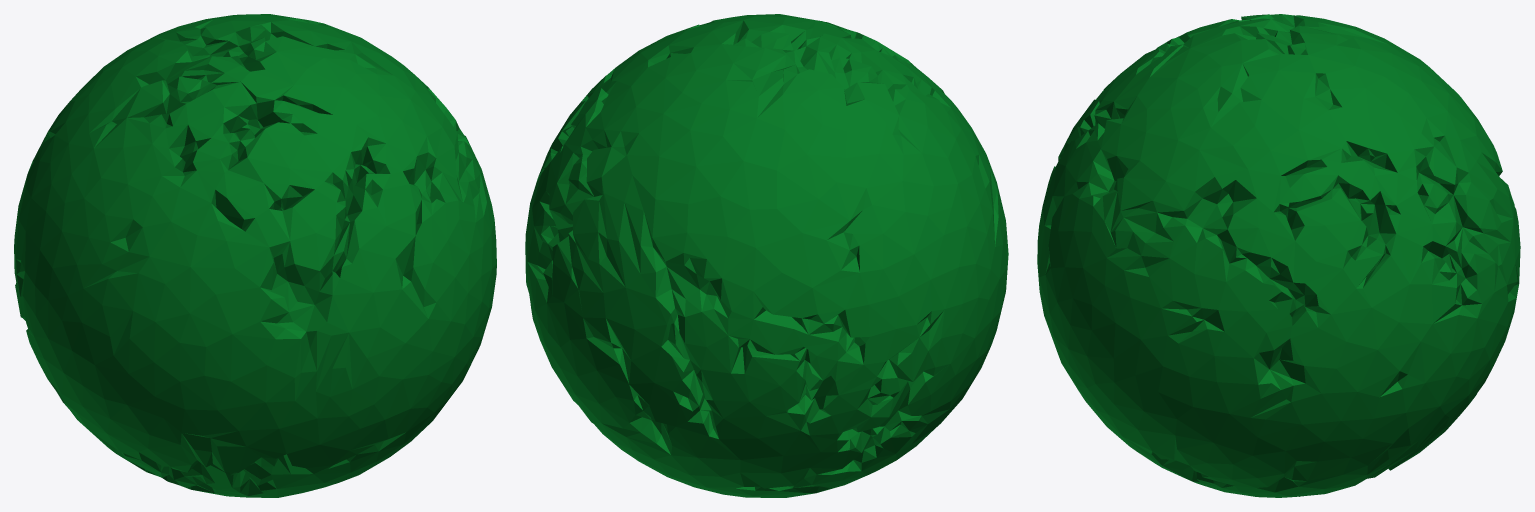
Rendered from Planet 5.FBX.
The picture shows the model from 3 angles, left to right: view 1: azimuth 30°, elevation 25°; view 2: azimuth 150°, elevation 25°; view 3: azimuth 270°, elevation 25°; orthographic projection.
Visible parts, largest first — view 1: Planet 5; view 2: Planet 5; view 3: Planet 5.
Boxes of the visible parts, x1,y1,x2,y2 form: Planet 5: (14, 14, 496, 497); Planet 5: (525, 14, 1008, 497); Planet 5: (1037, 14, 1520, 497).
Size of the model in its own units: 220 by 219 by 219.
